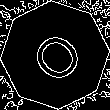O_SE: (21, 22, 89, 88)
